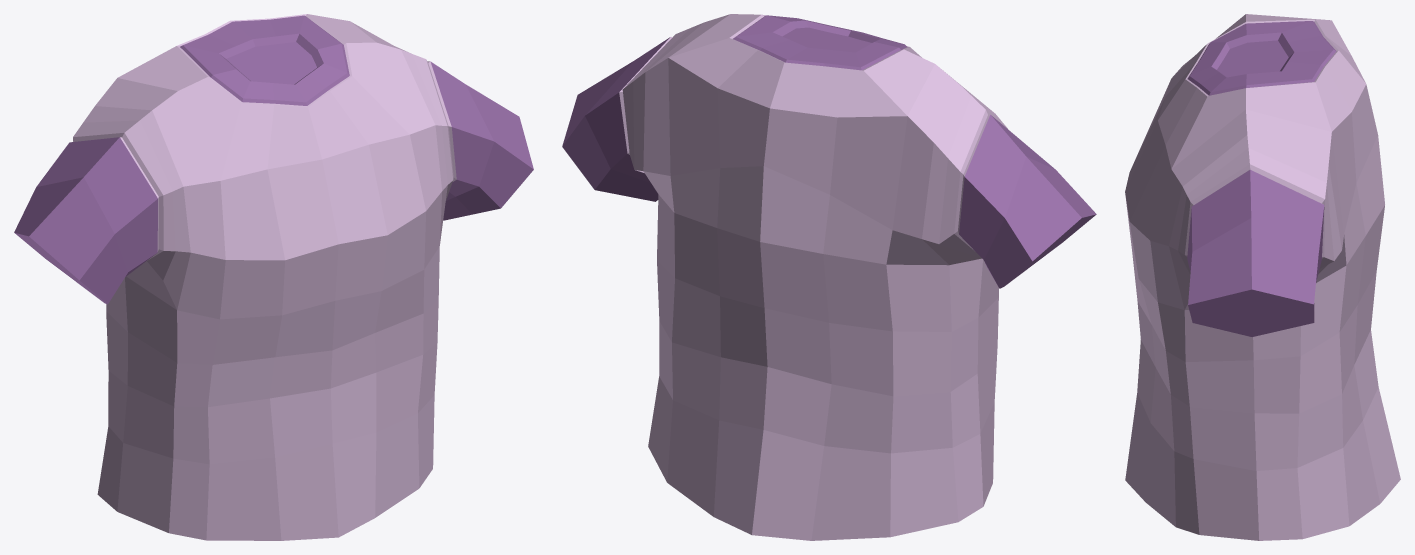
Rendered from playerB_woman_shirts.fbx.
The picture shows the model from 3 angles, left to right: view 1: azimuth 30°, elevation 25°; view 2: azimuth 150°, elevation 25°; view 3: azimuth 270°, elevation 25°; orthographic projection. The views are drawn at different scales.
Parts seen in each view (by area): view 1: shirt; view 2: shirt; view 3: shirt.
Boxes of the visible parts, bbox=[...] form: shirt: bbox=[14, 14, 533, 540]; shirt: bbox=[562, 14, 1096, 540]; shirt: bbox=[1125, 14, 1400, 540].
Bounding box in the file's own units: 162 × 138 × 80.16.
